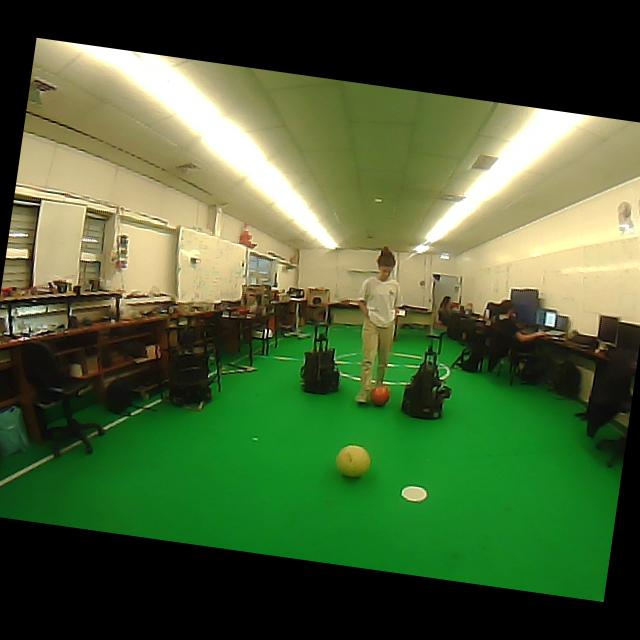ball: (337, 445, 370, 478), (370, 385, 391, 406)
robot: (401, 344, 452, 419), (300, 322, 340, 395), (169, 351, 212, 406)
